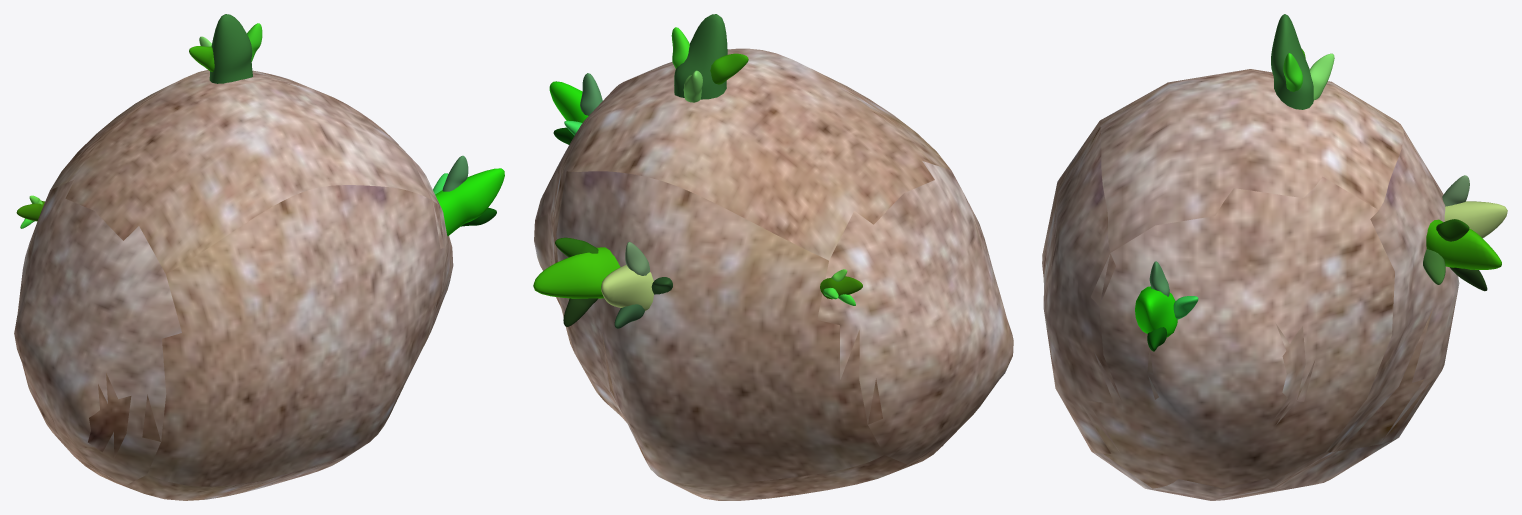
Rendered from potato_seed.glb.
3 renders of one model, left to right at view 1: azimuth 30°, elevation 25°; view 2: azimuth 150°, elevation 25°; view 3: azimuth 270°, elevation 25°, orthographic. The views are drawn at different scales.
Visible parts, largest first — view 1: Plane, Plane.009, Plane.001, Plane.011; view 2: Plane, Plane.017, Plane.001, Plane.013, Plane.009, Plane.003, Plane.011, Plane.019, Plane.015, Plane.005, Plane.018, Plane.002; view 3: Plane, Plane.001, Plane.017, Plane.009, Plane.013, Plane.004, Plane.020, Plane.015, Plane.002, Plane.018.
Part boxes in pixels (x1=…): Plane: x1=14, y1=70, x2=453, y2=500; Plane.009: x1=435, y1=168, x2=504, y2=235; Plane.001: x1=209, y1=14, x2=252, y2=83; Plane.011: x1=442, y1=155, x2=468, y2=191; Plane: x1=534, y1=48, x2=1013, y2=500; Plane.017: x1=533, y1=247, x2=620, y2=298; Plane.001: x1=674, y1=14, x2=727, y2=99; Plane.013: x1=601, y1=265, x2=653, y2=310; Plane.009: x1=549, y1=81, x2=588, y2=122; Plane.003: x1=710, y1=53, x2=748, y2=84; Plane.011: x1=580, y1=73, x2=602, y2=115; Plane.019: x1=563, y1=298, x2=598, y2=326; Plane.015: x1=625, y1=242, x2=649, y2=275; Plane.005: x1=820, y1=276, x2=862, y2=299; Plane.018: x1=555, y1=237, x2=598, y2=257; Plane.002: x1=671, y1=27, x2=689, y2=68; Plane: x1=1042, y1=69, x2=1459, y2=500; Plane.001: x1=1271, y1=14, x2=1313, y2=109; Plane.017: x1=1426, y1=219, x2=1501, y2=269; Plane.009: x1=1135, y1=286, x2=1177, y2=337; Plane.013: x1=1444, y1=201, x2=1507, y2=238; Plane.004: x1=1309, y1=53, x2=1334, y2=100; Plane.020: x1=1423, y1=249, x2=1445, y2=284; Plane.015: x1=1442, y1=175, x2=1469, y2=206; Plane.002: x1=1283, y1=53, x2=1302, y2=91; Plane.018: x1=1436, y1=219, x2=1469, y2=241.
Bounding box in the file's own units: 1.79 × 1.77 × 1.56.
Materials: 21 (1 with a texture image).
